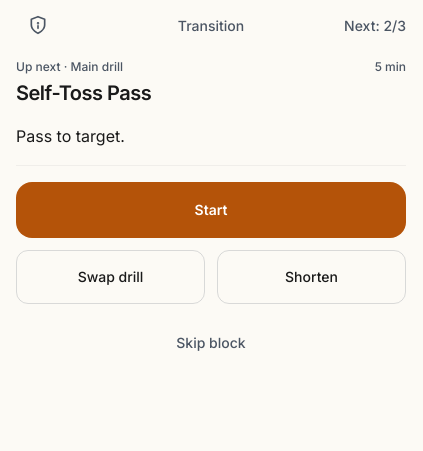
Scenario: TransitionScreen controller outcomes › shows a retryable error when skip fails
Click the button "Skip block" at (211, 343), box [160, 316, 262, 370]
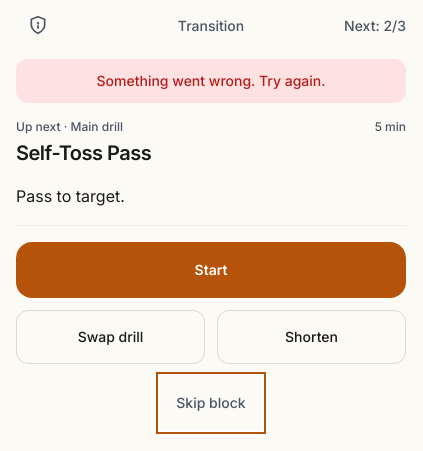
Expected: the heading "Self-Toss Pass" is shown, [16, 141, 151, 165]
Expected: the text "Something went wrong. Try again." is shown, [16, 59, 406, 103]
